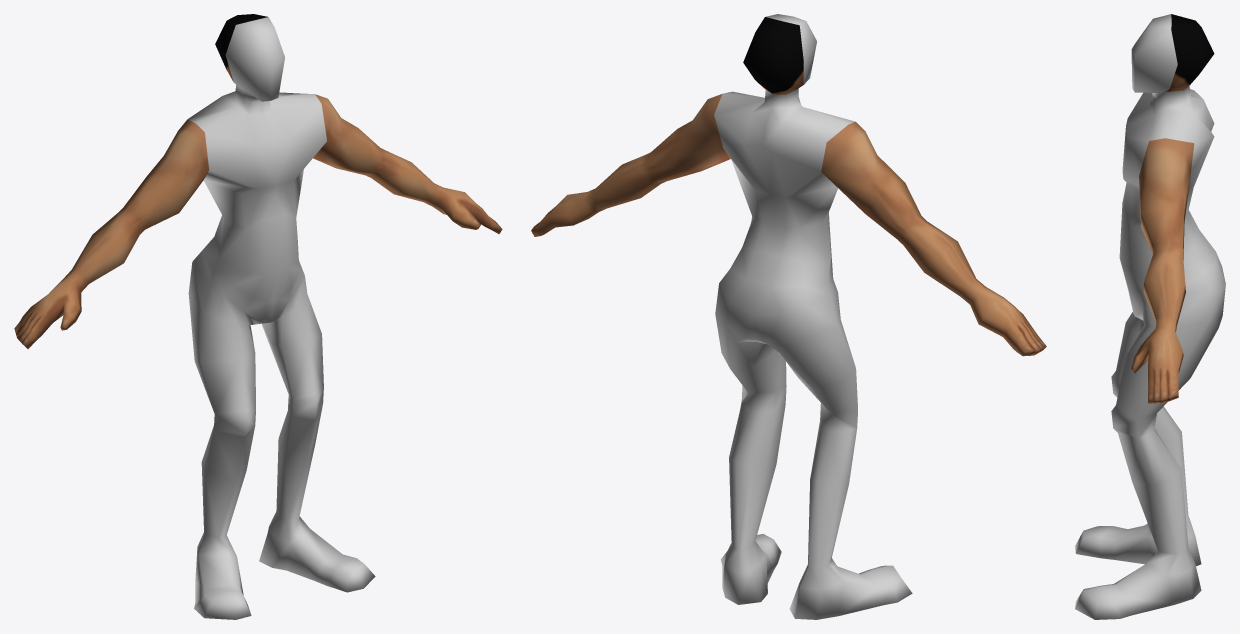
The model's file is man@att.FBX.
3 renders of one model, left to right at view 1: azimuth 30°, elevation 25°; view 2: azimuth 150°, elevation 25°; view 3: azimuth 270°, elevation 25°, orthographic. The views are drawn at different scales.
Visible parts, largest first — view 1: Box004; view 2: Box004; view 3: Box004.
Boxes of the visible parts, x1=… form: Box004: x1=14, y1=14, x2=502, y2=619; Box004: x1=531, y1=14, x2=1046, y2=619; Box004: x1=1075, y1=14, x2=1225, y2=619.
Size of the model in its own units: 16.79 by 18.4 by 4.53.
